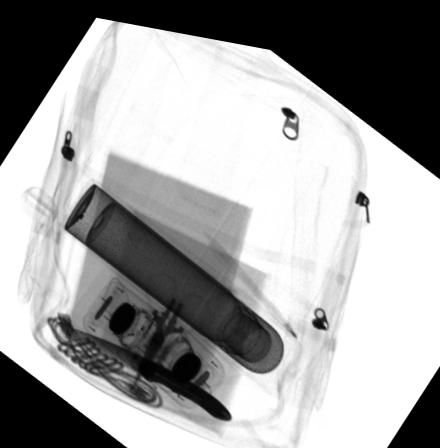Knife: (70, 324, 235, 411)
Scissors: (132, 261, 214, 383)
